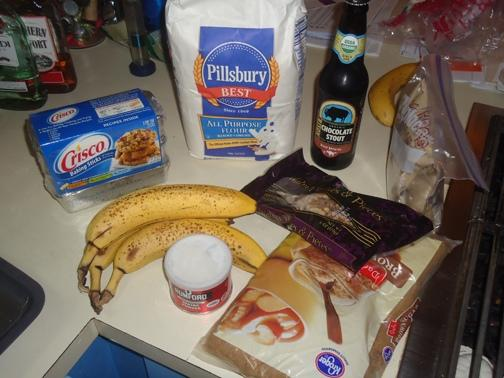banana: (76, 185, 258, 294), (94, 218, 268, 306), (89, 218, 235, 315), (368, 63, 422, 127)
